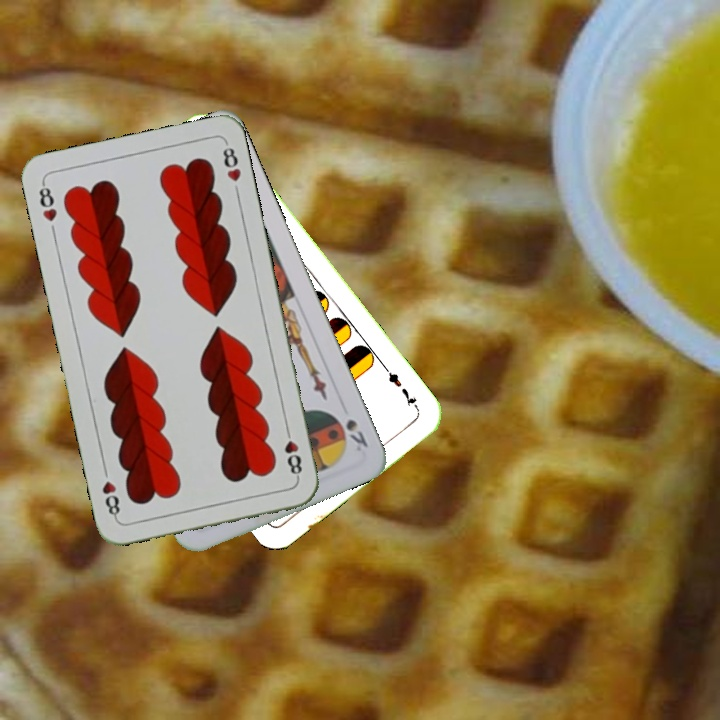E7: (380, 363, 422, 413)
H8: (280, 423, 305, 481), (35, 178, 60, 224)
SK: (341, 414, 371, 450)
